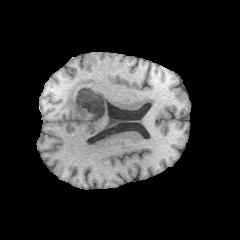glioma: (64, 79, 129, 140)
